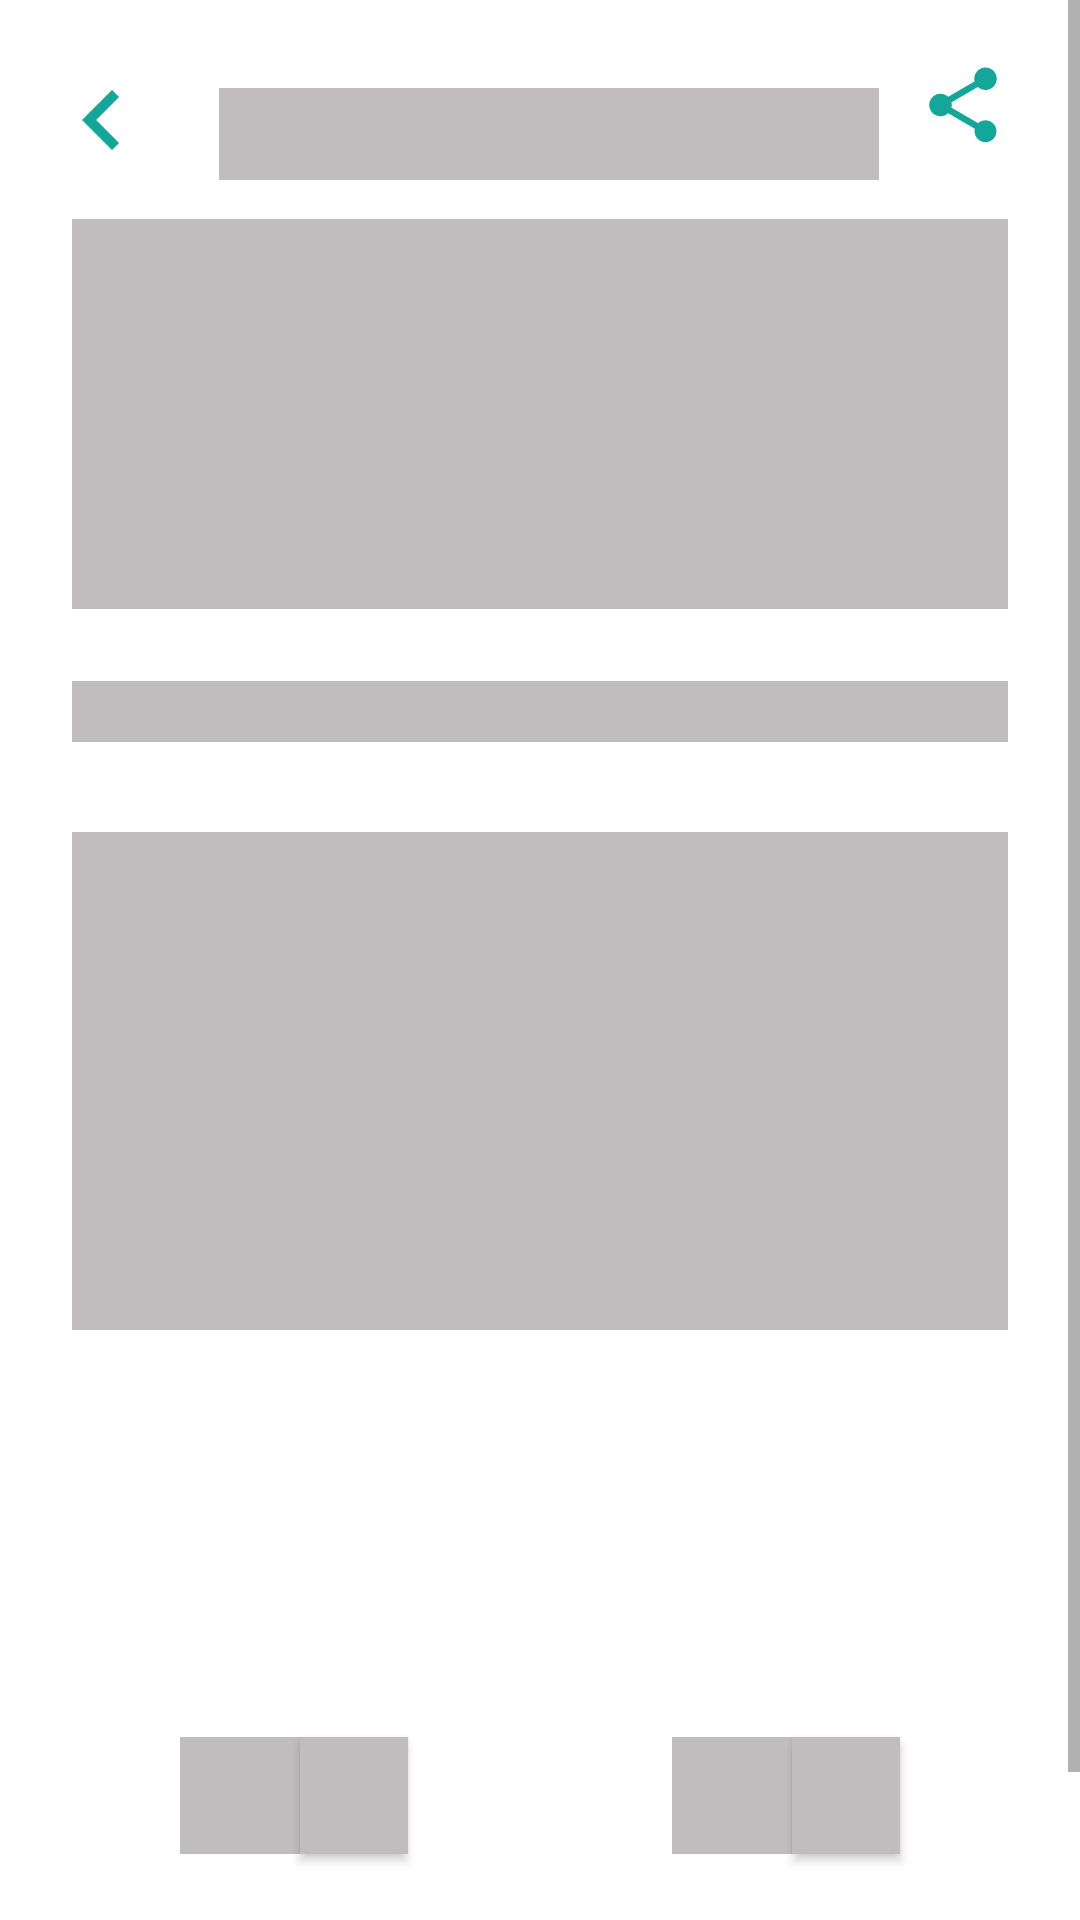

Named icons in this screenshot (1080*1920) and their bounding boxes, box=[x1, y1, x2, y2]:
chevron left: box=[82, 90, 119, 150]
share: box=[929, 67, 997, 143]
